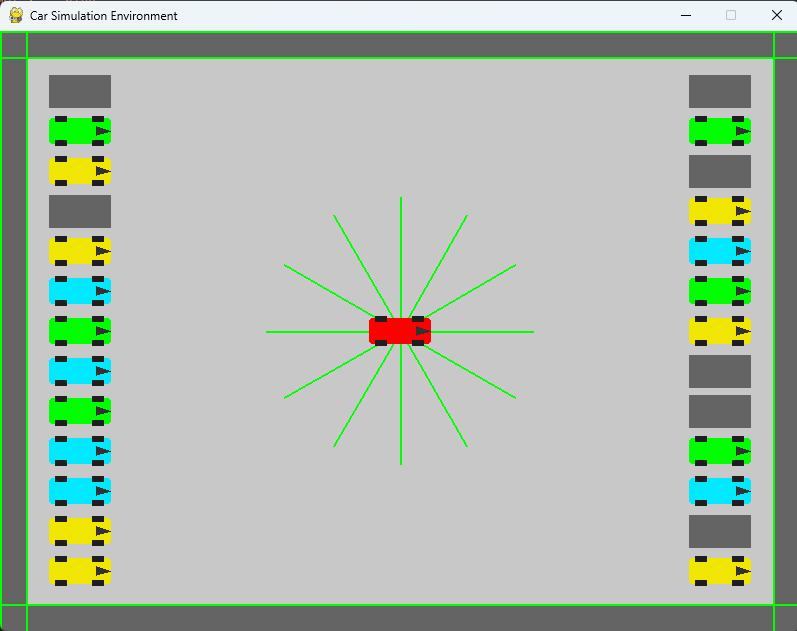ControlledCar: (357, 305, 437, 352)
ParkedCar: (46, 471, 118, 513), (45, 232, 117, 273), (685, 434, 757, 474), (685, 111, 756, 150), (42, 111, 114, 149), (686, 190, 755, 229), (47, 394, 114, 433), (679, 273, 755, 307), (687, 314, 758, 350), (46, 312, 114, 349), (688, 472, 759, 507), (48, 554, 115, 591), (47, 356, 116, 391), (47, 152, 114, 188), (687, 553, 752, 589), (44, 435, 116, 467), (47, 516, 114, 550), (683, 235, 754, 267), (45, 275, 112, 307)
ParkingSpot: (682, 66, 761, 112), (681, 508, 757, 552), (40, 66, 117, 109), (683, 351, 754, 393), (683, 155, 761, 192), (688, 390, 761, 429), (42, 191, 116, 229)
